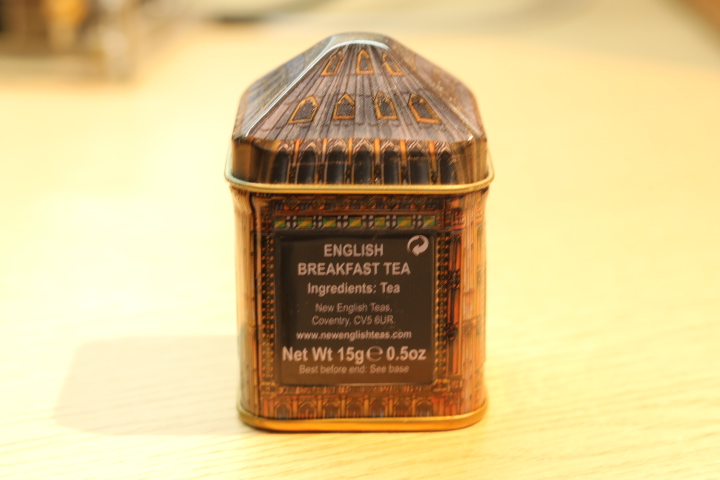Big Ben: (207, 24, 511, 446)
